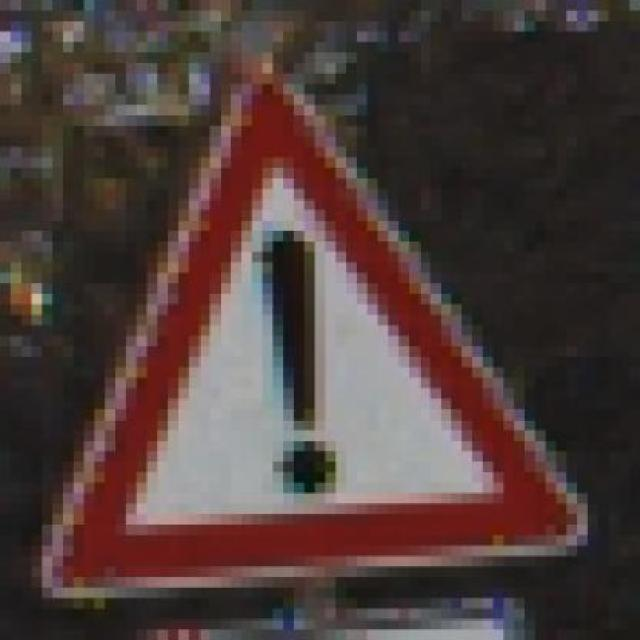Attention Please-: (41, 63, 588, 588)
